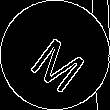M_NE: (21, 21, 89, 89)
